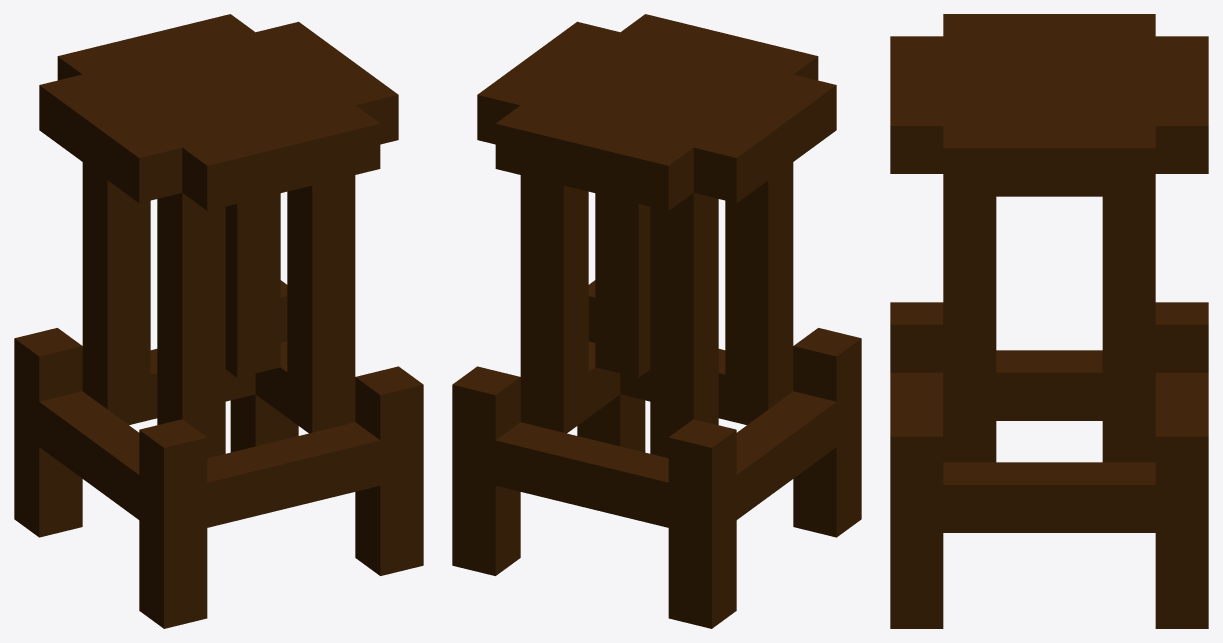
Rendered from saloon-17.obj.
3 views of the same model, side by side, from view 1: azimuth 30°, elevation 25°; view 2: azimuth 150°, elevation 25°; view 3: azimuth 270°, elevation 25° (orthographic). The views are drawn at different scales.
Size of the model in its own units: 0.6 by 1 by 0.6.
1 material, 1 textured.
